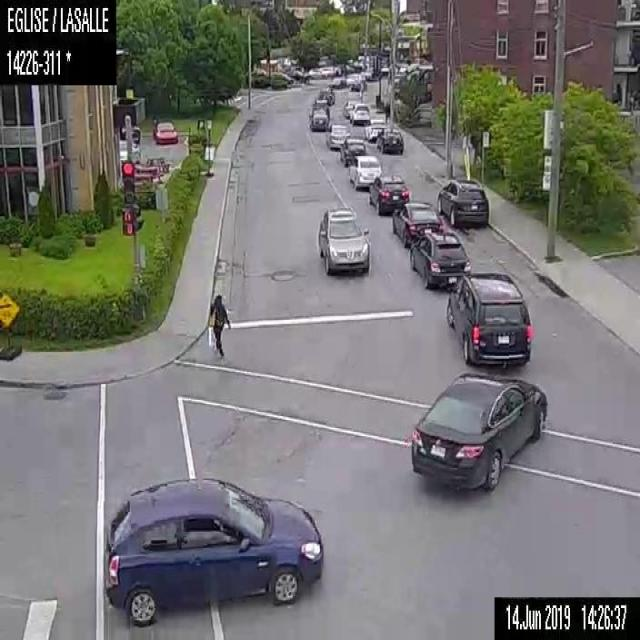pedestrian: (209, 295, 232, 356)
vehicle: (104, 476, 322, 627), (409, 371, 547, 489), (447, 268, 531, 366), (407, 228, 469, 293), (316, 205, 369, 275), (437, 174, 488, 230), (390, 199, 442, 243), (368, 173, 410, 212), (347, 155, 381, 190), (373, 126, 403, 155), (338, 135, 364, 166), (325, 123, 350, 150), (152, 120, 179, 142), (118, 141, 141, 165), (366, 118, 384, 142), (310, 108, 329, 130), (351, 104, 370, 123), (316, 86, 333, 103), (331, 74, 346, 88), (308, 67, 326, 78), (345, 98, 355, 116)
